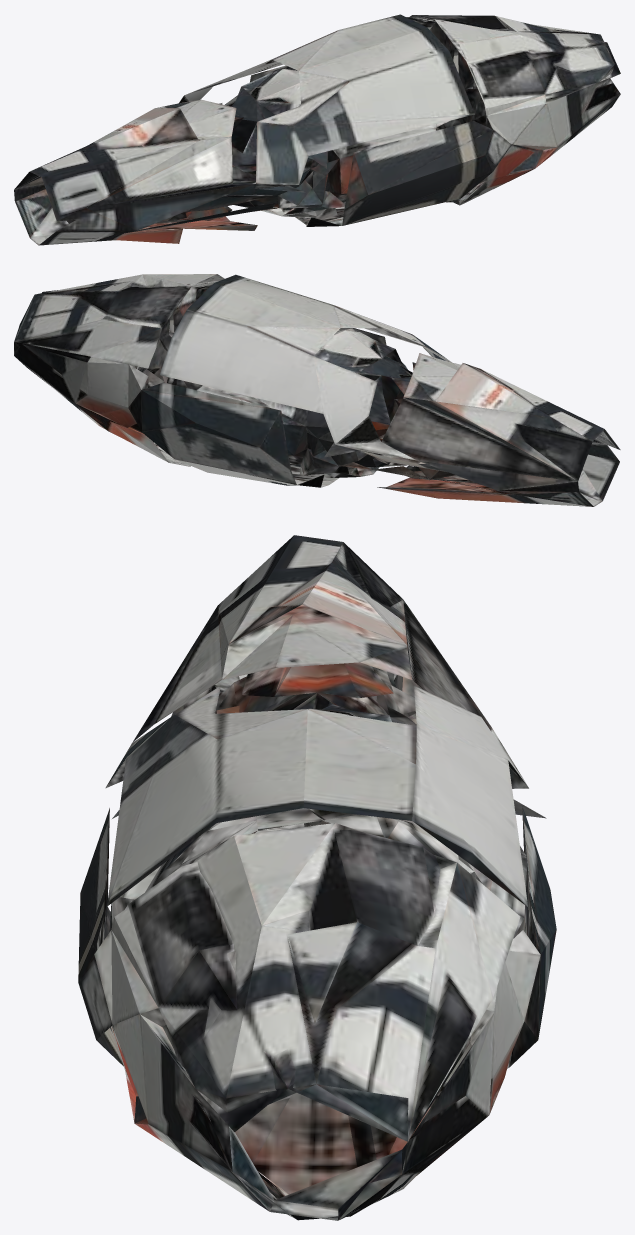
Rendered from asteroid-wreck.glb.
The picture shows the model from 3 angles, top to bottom: view 1: azimuth 30°, elevation 25°; view 2: azimuth 150°, elevation 25°; view 3: azimuth 270°, elevation 25°; orthographic projection. The views are drawn at different scales.
Bounding box in the file's own units: 1.9 × 0.5574 × 0.695.
1 material, 1 textured.
